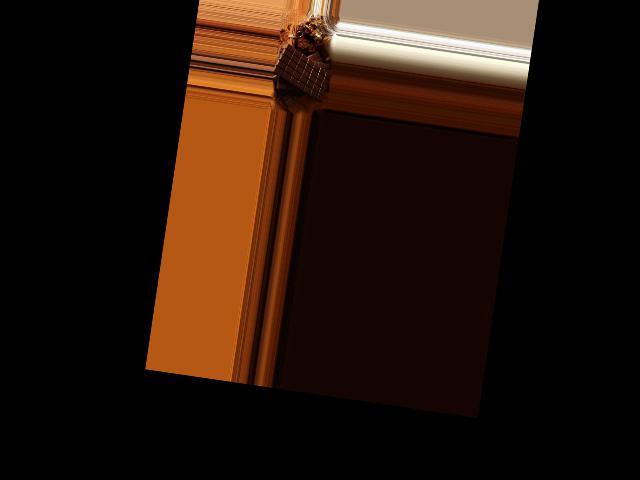chocolate: (269, 39, 333, 103)
